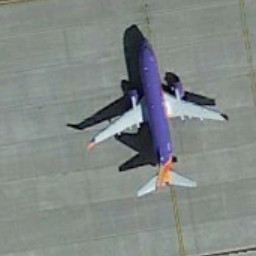Airplane: (79, 28, 233, 209)
